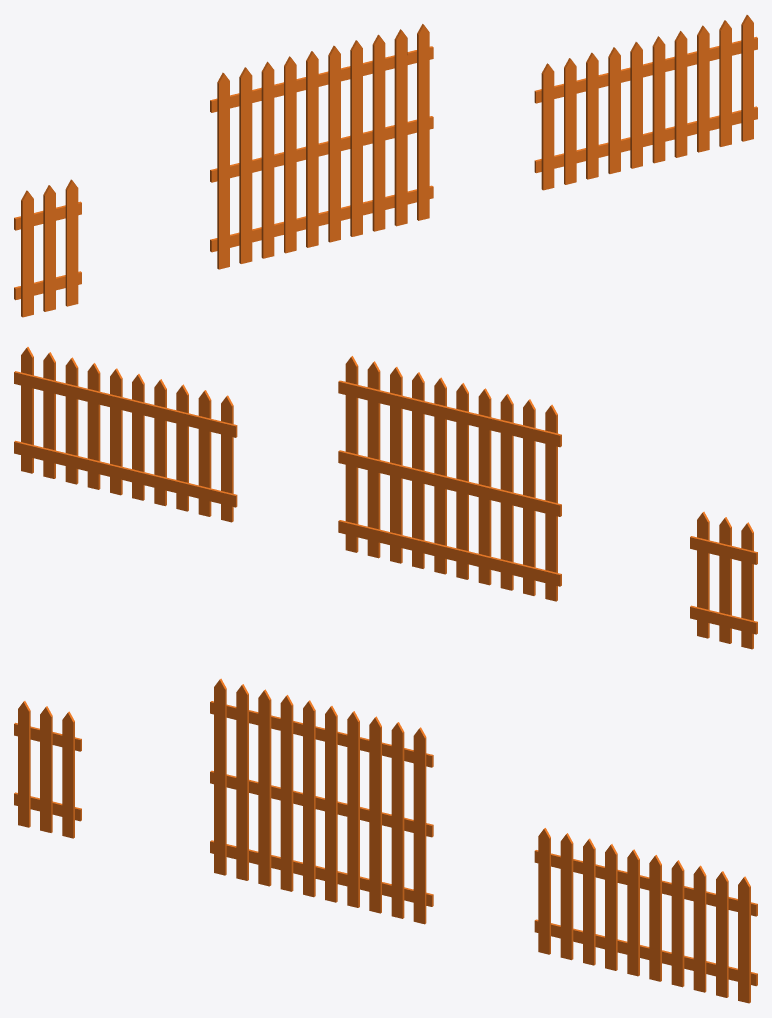
The model's file is Vallas_low.fbx.
3 renders of one model, top to bottom at view 1: azimuth 30°, elevation 25°; view 2: azimuth 150°, elevation 25°; view 3: azimuth 330°, elevation 25°, orthographic.
Parts seen in each view (by area): view 1: valla_alta_low, valla_low, valla_pequeña_low; view 2: valla_alta_low, valla_low, valla_pequeña_low; view 3: valla_alta_low, valla_low, valla_pequeña_low.
Boxes of the visible parts, left/top/right/bottom form: valla_alta_low: left=210, top=24, right=433, bottom=269; valla_low: left=534, top=15, right=757, bottom=190; valla_pequeña_low: left=14, top=179, right=81, bottom=317; valla_alta_low: left=338, top=356, right=561, bottom=601; valla_low: left=14, top=347, right=237, bottom=522; valla_pequeña_low: left=690, top=511, right=757, bottom=649; valla_alta_low: left=210, top=678, right=433, bottom=924; valla_low: left=534, top=828, right=757, bottom=1003; valla_pequeña_low: left=14, top=701, right=81, bottom=838.
Bounding box in the file's own units: 664 × 166 × 4.96.
